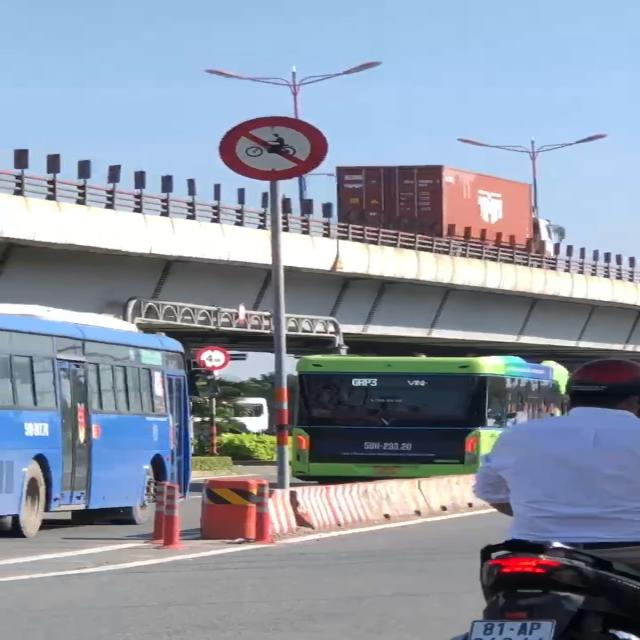Bien bao cam xe may: (205, 107, 346, 187)
